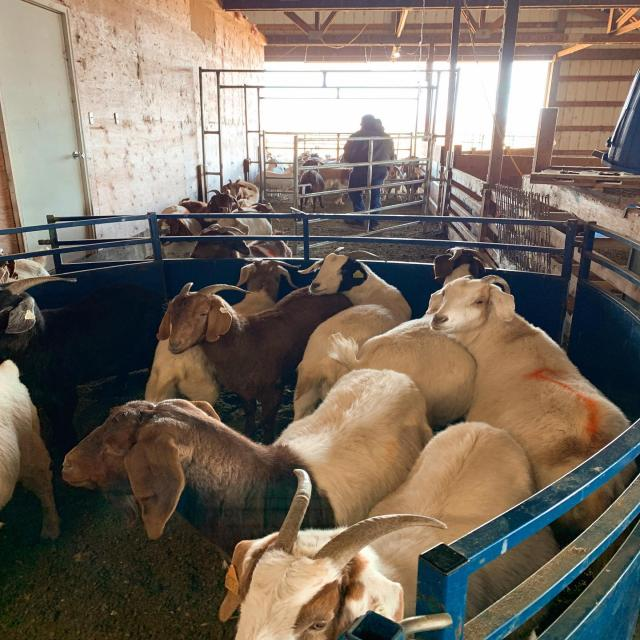goat: (421, 277, 615, 480), (45, 374, 257, 552), (145, 284, 308, 379)
